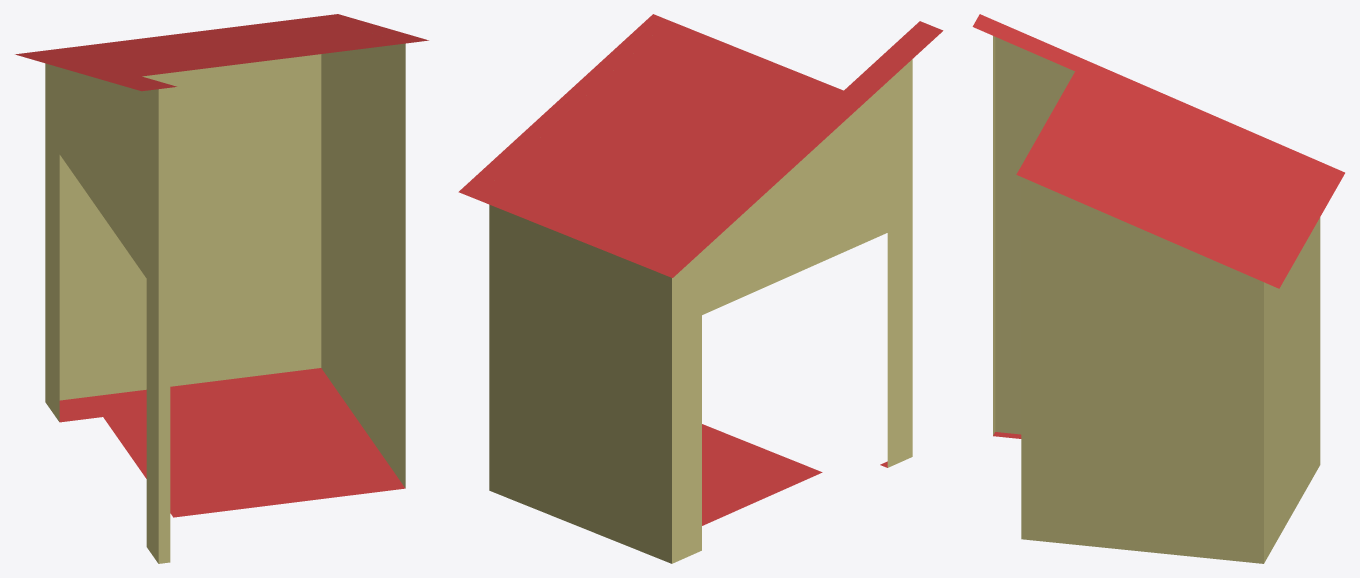
3 views of the same model, side by side, from view 1: azimuth 30°, elevation 25°; view 2: azimuth 150°, elevation 25°; view 3: azimuth 270°, elevation 25° (orthographic). The views are drawn at different scales.
Bounding box in the file's own units: 8.68 × 8.92 × 10.75.
